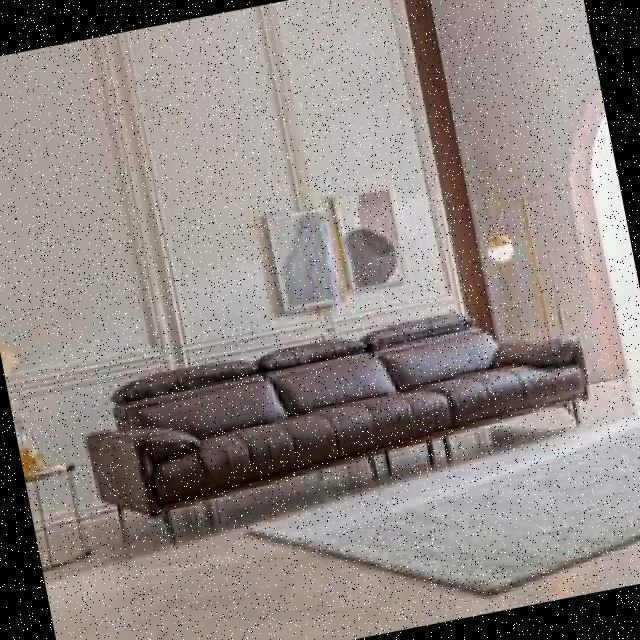Sofa: (64, 263, 621, 581)
